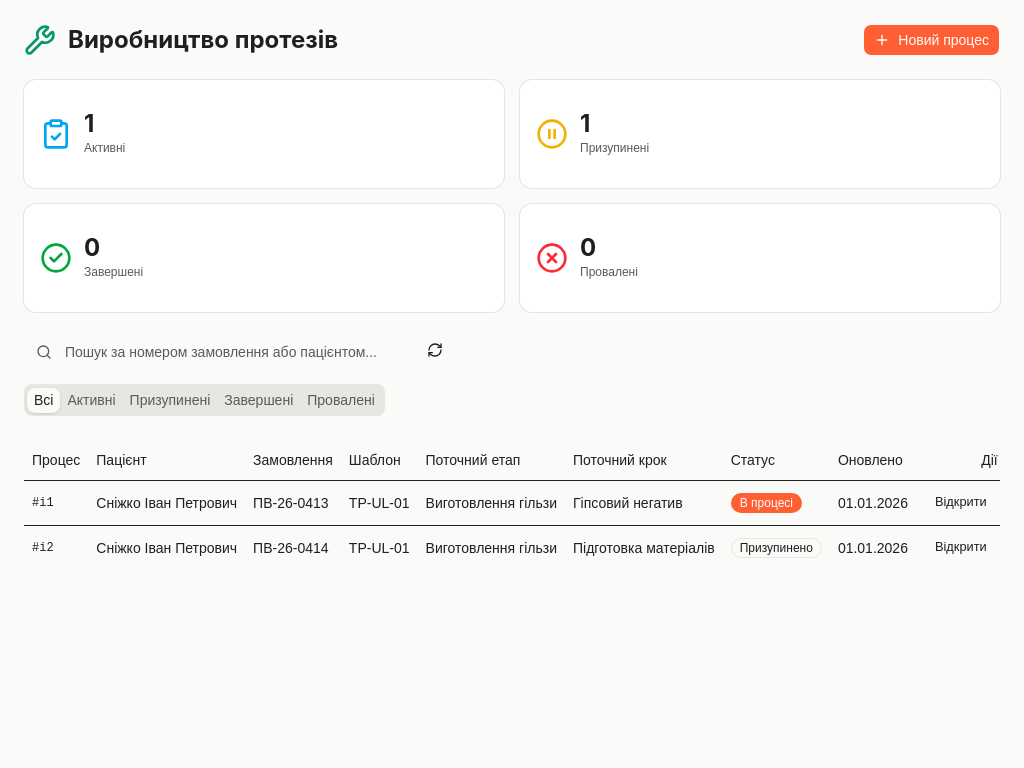
Test: DashboardPage › filters instances client-side when a tab is selected
Expected: the text "ПВ-26-0413" is shown, [245,480,341,525]
Click the tab "Призупинені" at (170, 400), box [123,388,217,412]
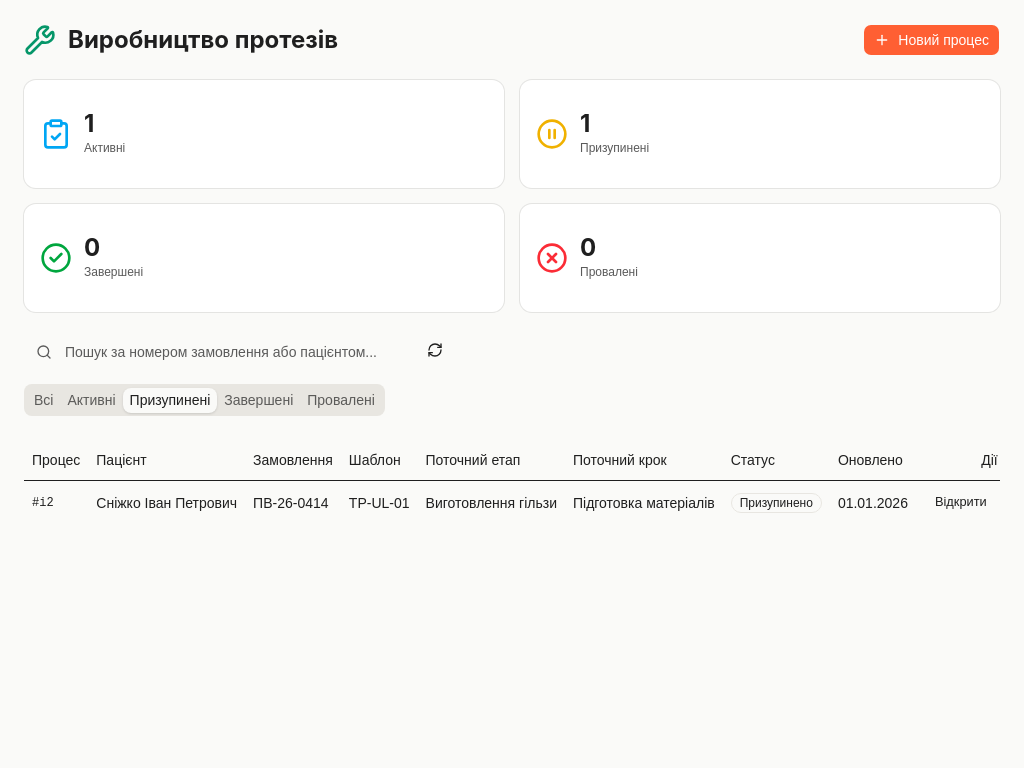
Result: the text "Гіпсовий негатив" is gone
